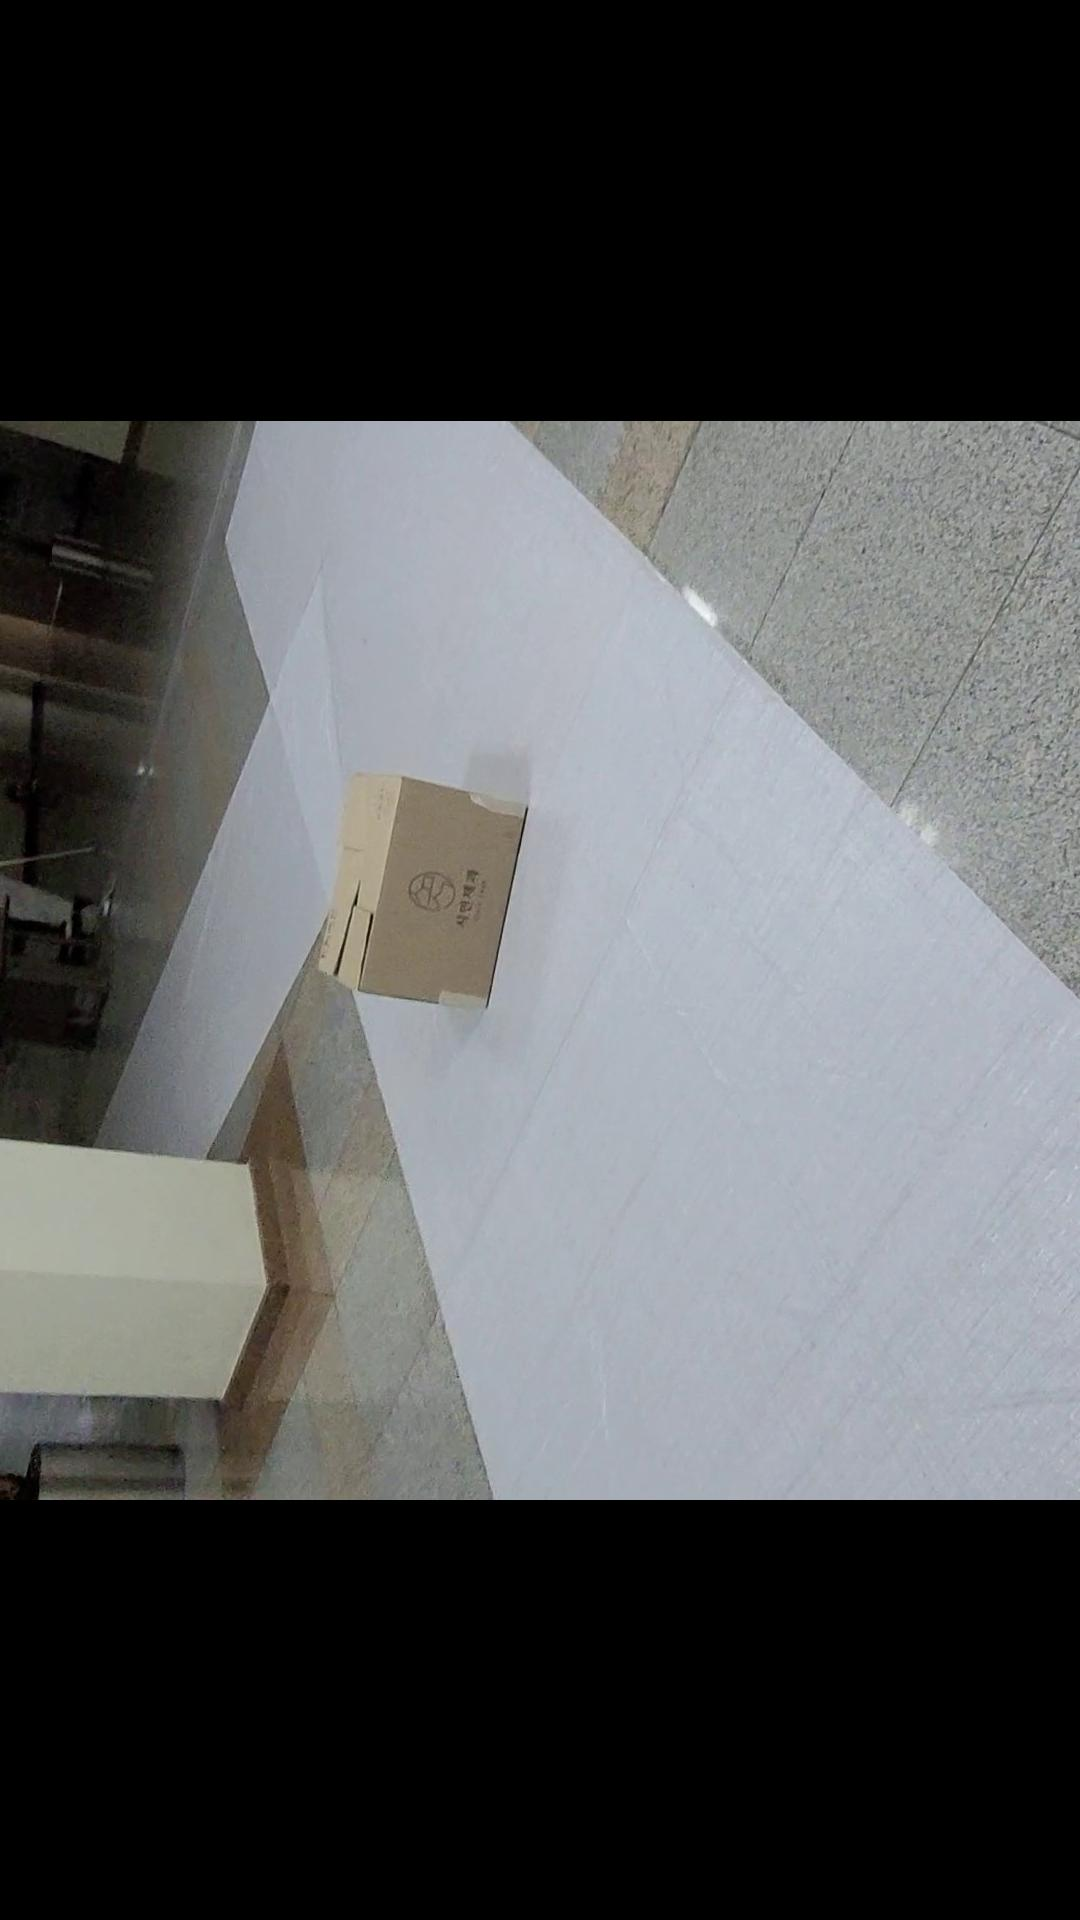Box: (303, 756, 550, 1011)
